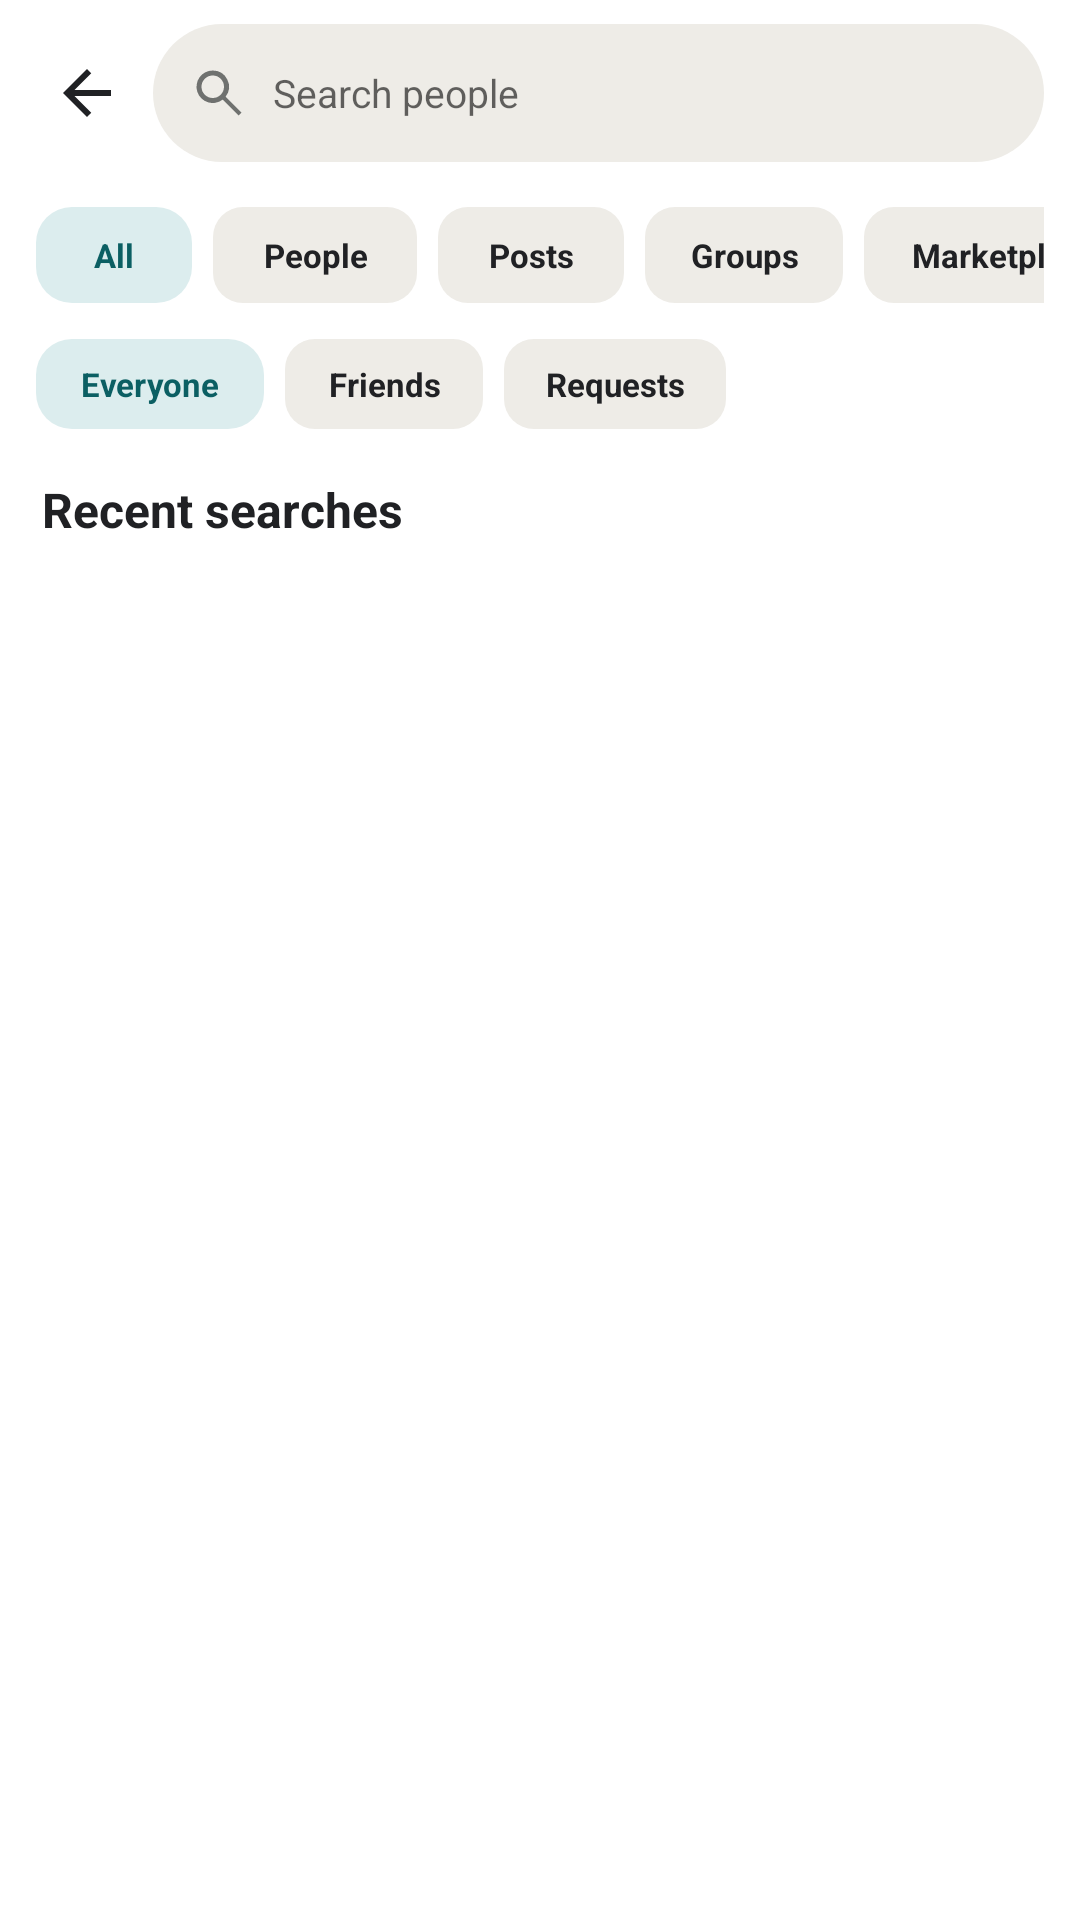

Locate icon controls on the screen. Image size 1080*1920, boxes as Rect(x1, y1, x2, y2).
Back: Rect(63, 69, 111, 117)
